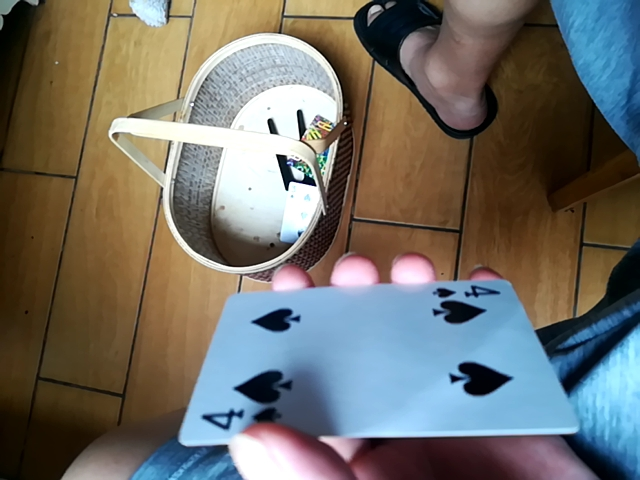ht 4: (190, 271, 568, 448)
